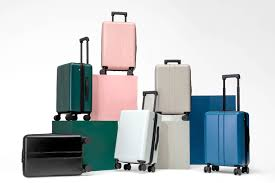suitcase: (201, 70, 252, 176), (48, 36, 96, 124), (113, 90, 162, 173), (153, 58, 196, 120), (97, 11, 137, 77), (89, 72, 137, 124)
